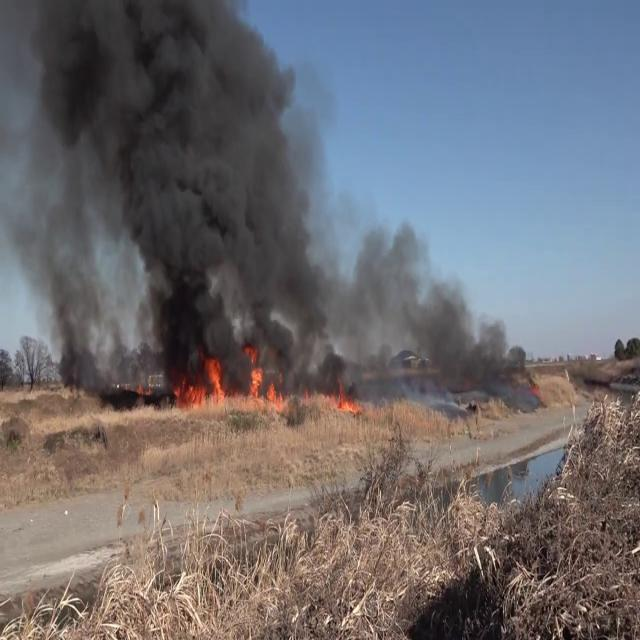Fire: (168, 348, 284, 417), (304, 374, 368, 415)
Smoke: (5, 0, 330, 382), (332, 212, 540, 400)
